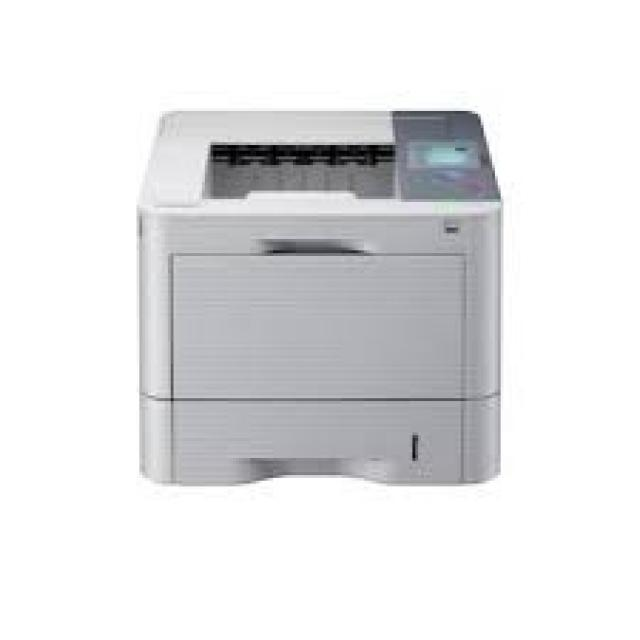printer: (124, 98, 510, 492)
